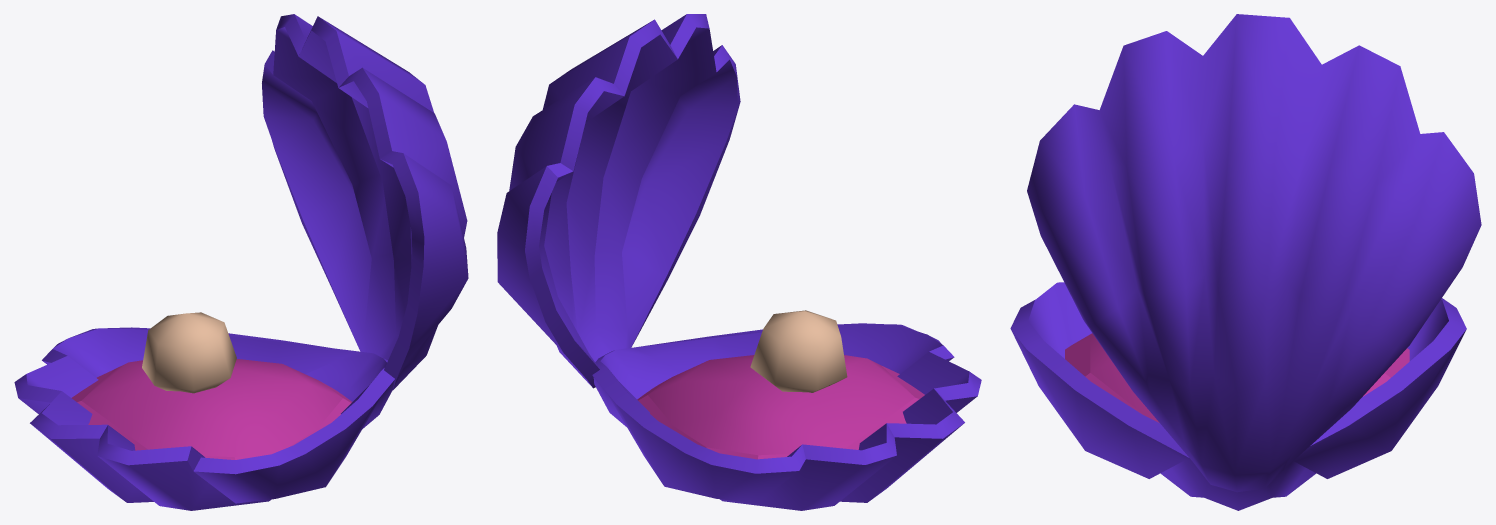
The model's file is Open Shell.fbx.
3 views of the same model, side by side, from view 1: azimuth 30°, elevation 25°; view 2: azimuth 150°, elevation 25°; view 3: azimuth 270°, elevation 25° (orthographic). The views are drawn at different scales.
Parts seen in each view (by area): view 1: Plane032; view 2: Plane032; view 3: Plane032.
Part boxes in pixels (x1=…): Plane032: x1=14, y1=14, x2=468, y2=510; Plane032: x1=497, y1=14, x2=981, y2=510; Plane032: x1=1010, y1=14, x2=1481, y2=510.
Size of the model in its own units: 25.25 by 25.44 by 20.61.
